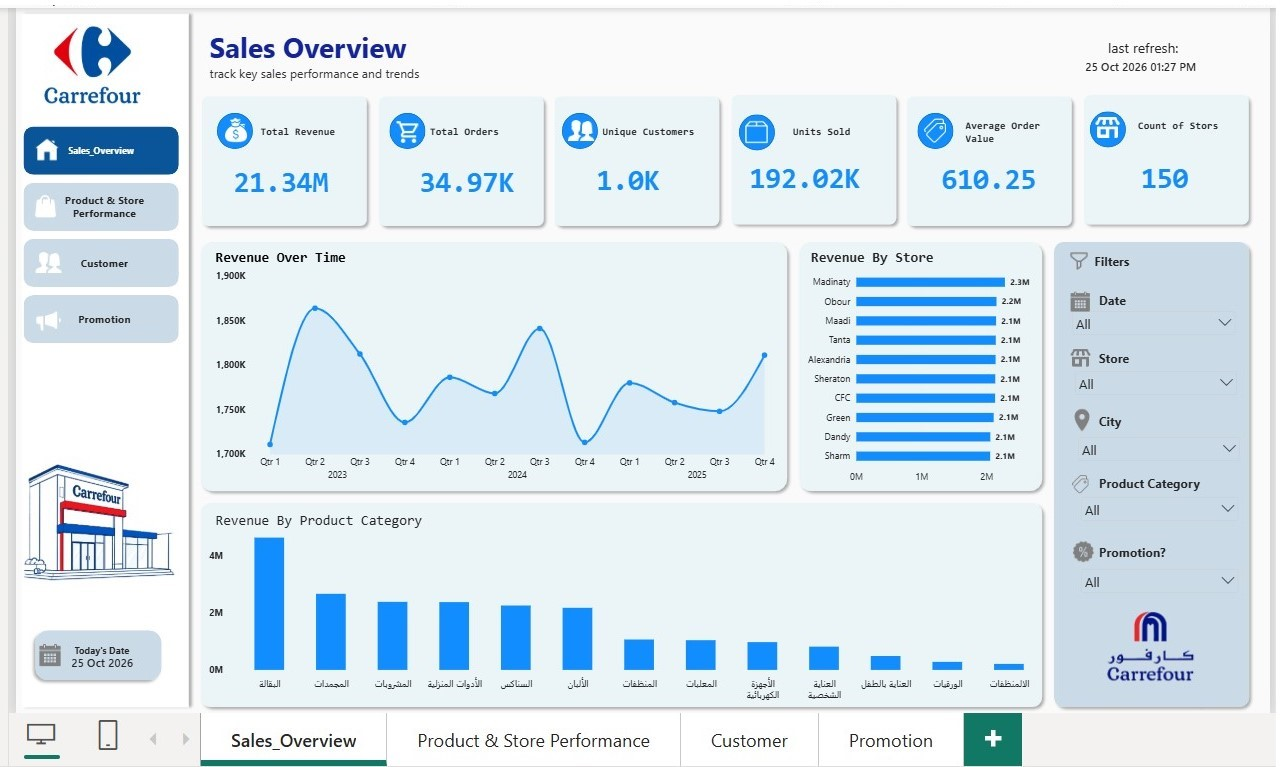

The dashboard page shown, as its layout file describes it:
{"tool":"powerbi","page":{"name":"Sales_Overview","canvas":[1920,1080],"ordinal":0},"visuals":[{"type":"shape","box":[1580.9,349.3,317.1,730.7],"z":0},{"type":"shape","box":[1355.7,125.5,270.7,216.5],"z":1000},{"type":"shape","box":[1087.5,123,270.7,216.5],"z":2000},{"type":"shape","box":[816.9,125.5,270.7,216.5],"z":3000},{"type":"shape","box":[546.2,125.5,270.7,216.5],"z":4000},{"type":"shape","box":[275.6,125.5,270.7,216.5],"z":5000},{"type":"shape","box":[308,160.9,55,55],"z":6000},{"type":"shape","box":[273.4,749.1,1307.5,330.9],"z":7000},{"type":"shape","box":[1190.3,349.3,390.6,399.8],"z":8000},{"type":"shape","box":[273.1,349.4,916.9,400],"z":9000},{"type":"shape","box":[0,0,273.4,1080],"z":10000},{"type":"shape","box":[20.7,944.4,211.4,94.2],"z":11000},{"type":"image","box":[12,13,211.4,147.1],"z":12000},{"type":"pageNavigator","box":[11.7,180.9,239.6,230.2],"z":13000},{"type":"image","box":[21.1,195,35,35],"z":14000},{"type":"image","box":[21.1,274.8,40,40],"z":15000},{"type":"image","box":[25.8,352.4,40,40],"z":16000},{"type":"image","box":[0,652.6,250.5,268.9],"z":18000},{"type":"image","box":[35,975,35,35],"z":19000},{"type":"cardVisual","fields":{"Data":["Dim_Customers.today dat"]},"box":[68.9,974.3,149.4,55.1],"z":20000},{"type":"textbox","box":[89.6,974.3,98.8,18.4],"z":21000},{"type":"textbox","box":[296.4,29.9,326.3,87.3],"z":22000},{"type":"textbox","box":[296.4,87.3,496.3,73.5],"z":23000},{"type":"cardVisual","fields":{"Data":["Dim_Customers.current time"]},"box":[1622.3,52.9,273.4,73.5],"z":24000},{"type":"textbox","box":[1672.9,47,117.2,72],"z":25000},{"type":"lineChart","fields":{"Category":["Fact_Sales.Date.Variation.Date Hierarchy.Year","Fact_Sales.Date.Variation.Date Hierarchy.Quarter"],"Y":["Fact_Sales.Total Revenue"]},"box":[305.6,399.8,868.6,333.2],"z":26000},{"type":"textbox","box":[305,370,213.7,43.7],"z":27000},{"type":"barChart","fields":{"Category":["Dim_Stores.Store_Name"],"Y":["Fact_Sales.Total Revenue"]},"box":[1190.3,379.1,390.6,370],"z":28000},{"type":"textbox","box":[1217.9,371,381.4,57.4],"z":29000},{"type":"columnChart","fields":{"Category":["Dim_Products.Category"],"Y":["Fact_Sales.Total Revenue"]},"box":[273.4,772.1,1325.9,307.9],"z":30000},{"type":"textbox","box":[305.6,772.1,347,43.7],"z":31000},{"type":"shape","box":[572,160.9,55,55],"z":32000},{"type":"shape","box":[836.4,160.9,55,55],"z":33000},{"type":"shape","box":[1107.2,162.4,55,55],"z":34000},{"type":"shape","box":[1380.3,159.9,55,55],"z":35000},{"type":"image","box":[316,167,40,40],"z":36000},{"type":"image","box":[581,170,40,40],"z":37000},{"type":"image","box":[845,167,40,40],"z":38000},{"type":"image","box":[1114.6,169.8,40,40],"z":39000},{"type":"image","box":[1387.7,167.3,40,40],"z":40000},{"type":"textbox","box":[374,180,140.2,34.5],"z":41000},{"type":"textbox","box":[635,180,135.6,25.7],"z":42000},{"type":"textbox","box":[899,179.2,188.4,39.1],"z":43000},{"type":"textbox","box":[1190.9,179.6,118.1,54.1],"z":44000},{"type":"textbox","box":[1454.2,169.8,172.2,64],"z":45000},{"type":"cardVisual","fields":{"Data":["Fact_Sales.Total Revenue"]},"box":[317.1,193,179.2,149.4],"z":46000},{"type":"cardVisual","fields":{"Data":["Fact_Sales.Total Orders"]},"box":[602,193,186.1,149.4],"z":47000},{"type":"cardVisual","fields":{"Data":["Fact_Sales.Unique Customers"]},"box":[873.2,204.5,174.6,119.5],"z":48000},{"type":"cardVisual","fields":{"Data":["Fact_Sales.Average Order"]},"box":[1402.5,201.8,223.9,120.6],"z":49000},{"type":"cardVisual","fields":{"Data":["Fact_Sales.Units Sold"]},"box":[1107.2,194.4,273.1,132.9],"z":50000},{"type":"shape","box":[1626.4,123,270.7,216.5],"z":51000},{"type":"shape","box":[1646.1,157.5,55,55],"z":52000},{"type":"cardVisual","fields":{"Data":["Fact_Sales.stors"]},"box":[1707.6,191.9,164.9,135.3],"z":53000},{"type":"image","box":[1653,163,40,40],"z":54000},{"type":"textbox","box":[1719,169.8,132.9,49.2],"z":55000},{"type":"image","box":[1610,370,35,35],"z":56000},{"type":"textbox","box":[1653,374,110.3,34.5],"z":57000},{"type":"slicer","fields":{"Values":["Fact_Sales.Date.Variation.Date Hierarchy.Month"]},"box":[1613.1,459.6,259.7,64.3],"z":58000},{"type":"image","box":[1581,435,98.8,32.2],"z":59000},{"type":"textbox","box":[1660,434.3,85,34.5],"z":60000},{"type":"image","box":[1614,520,35,33],"z":61000},{"type":"textbox","box":[1659.1,523.9,78.1,25.3],"z":62000},{"type":"slicer","fields":{"Values":["Dim_Stores.Store_Name"]},"box":[1617.7,551.5,257.4,55.1],"z":63000},{"type":"image","box":[1615,613,35,35],"z":64000},{"type":"textbox","box":[1659,620,103.4,29.9],"z":65000},{"type":"slicer","fields":{"Values":["Dim_Stores.City"]},"box":[1622.3,652.6,257.4,52.9],"z":66000},{"type":"image","box":[1615.4,714.6,29.9,29.9],"z":67000},{"type":"textbox","box":[1659.1,714.6,176.9,29.9],"z":68000},{"type":"slicer","fields":{"Values":["Dim_Products.Category"]},"box":[1626.9,744.5,250.5,55.1],"z":69000},{"type":"image","box":[1617.7,815.7,34.5,35],"z":70000},{"type":"textbox","box":[1659.1,820,193,34.5],"z":71000},{"type":"slicer","fields":{"Values":["Fact_Sales.is_promo_code"]},"box":[1626.9,854.8,250.5,55.1],"z":72000},{"type":"image","box":[1551.1,884.7,365.4,195.3],"z":73000}]}

Visuals, with their boxes on the page's 1920x1080 design canvas (x1, y1, x2, y2). These are canvas units, not pixel positions in the 1283x767 screenshot, which may show the page scaled, cropped or inside an application window:
shape: bbox=[1581, 349, 1898, 1080]
shape: bbox=[1356, 126, 1626, 342]
shape: bbox=[1088, 123, 1358, 340]
shape: bbox=[817, 126, 1088, 342]
shape: bbox=[546, 126, 817, 342]
shape: bbox=[276, 126, 546, 342]
shape: bbox=[308, 161, 363, 216]
shape: bbox=[273, 749, 1581, 1080]
shape: bbox=[1190, 349, 1581, 749]
shape: bbox=[273, 349, 1190, 749]
shape: bbox=[0, 0, 273, 1080]
shape: bbox=[21, 944, 232, 1039]
image: bbox=[12, 13, 223, 160]
pageNavigator: bbox=[12, 181, 251, 411]
image: bbox=[21, 195, 56, 230]
image: bbox=[21, 275, 61, 315]
image: bbox=[26, 352, 66, 392]
image: bbox=[0, 653, 250, 922]
image: bbox=[35, 975, 70, 1010]
cardVisual - Dim_Customers.today dat: bbox=[69, 974, 218, 1029]
textbox: bbox=[90, 974, 188, 993]
textbox: bbox=[296, 30, 623, 117]
textbox: bbox=[296, 87, 793, 161]
cardVisual - Dim_Customers.current time: bbox=[1622, 53, 1896, 126]
textbox: bbox=[1673, 47, 1790, 119]
lineChart - Fact_Sales.Date.Variation.Date Hierarchy.Year x Fact_Sales.Date.Variation.Date Hierarchy.Quarter: bbox=[306, 400, 1174, 733]
textbox: bbox=[305, 370, 519, 414]
barChart - Dim_Stores.Store_Name x Fact_Sales.Total Revenue: bbox=[1190, 379, 1581, 749]
textbox: bbox=[1218, 371, 1599, 428]
columnChart - Dim_Products.Category x Fact_Sales.Total Revenue: bbox=[273, 772, 1599, 1080]
textbox: bbox=[306, 772, 653, 816]
shape: bbox=[572, 161, 627, 216]
shape: bbox=[836, 161, 891, 216]
shape: bbox=[1107, 162, 1162, 217]
shape: bbox=[1380, 160, 1435, 215]
image: bbox=[316, 167, 356, 207]
image: bbox=[581, 170, 621, 210]
image: bbox=[845, 167, 885, 207]
image: bbox=[1115, 170, 1155, 210]
image: bbox=[1388, 167, 1428, 207]
textbox: bbox=[374, 180, 514, 214]
textbox: bbox=[635, 180, 771, 206]
textbox: bbox=[899, 179, 1087, 218]
textbox: bbox=[1191, 180, 1309, 234]
textbox: bbox=[1454, 170, 1626, 234]
cardVisual - Fact_Sales.Total Revenue: bbox=[317, 193, 496, 342]
cardVisual - Fact_Sales.Total Orders: bbox=[602, 193, 788, 342]
cardVisual - Fact_Sales.Unique Customers: bbox=[873, 204, 1048, 324]
cardVisual - Fact_Sales.Average Order: bbox=[1402, 202, 1626, 322]
cardVisual - Fact_Sales.Units Sold: bbox=[1107, 194, 1380, 327]
shape: bbox=[1626, 123, 1897, 340]
shape: bbox=[1646, 158, 1701, 212]
cardVisual - Fact_Sales.stors: bbox=[1708, 192, 1872, 327]
image: bbox=[1653, 163, 1693, 203]
textbox: bbox=[1719, 170, 1852, 219]
image: bbox=[1610, 370, 1645, 405]
textbox: bbox=[1653, 374, 1763, 408]
slicer - Fact_Sales.Date.Variation.Date Hierarchy.Month: bbox=[1613, 460, 1873, 524]
image: bbox=[1581, 435, 1680, 467]
textbox: bbox=[1660, 434, 1745, 469]
image: bbox=[1614, 520, 1649, 553]
textbox: bbox=[1659, 524, 1737, 549]
slicer - Dim_Stores.Store_Name: bbox=[1618, 552, 1875, 607]
image: bbox=[1615, 613, 1650, 648]
textbox: bbox=[1659, 620, 1762, 650]
slicer - Dim_Stores.City: bbox=[1622, 653, 1880, 706]
image: bbox=[1615, 715, 1645, 744]
textbox: bbox=[1659, 715, 1836, 744]
slicer - Dim_Products.Category: bbox=[1627, 744, 1877, 800]
image: bbox=[1618, 816, 1652, 851]
textbox: bbox=[1659, 820, 1852, 854]
slicer - Fact_Sales.is_promo_code: bbox=[1627, 855, 1877, 910]
image: bbox=[1551, 885, 1916, 1080]
